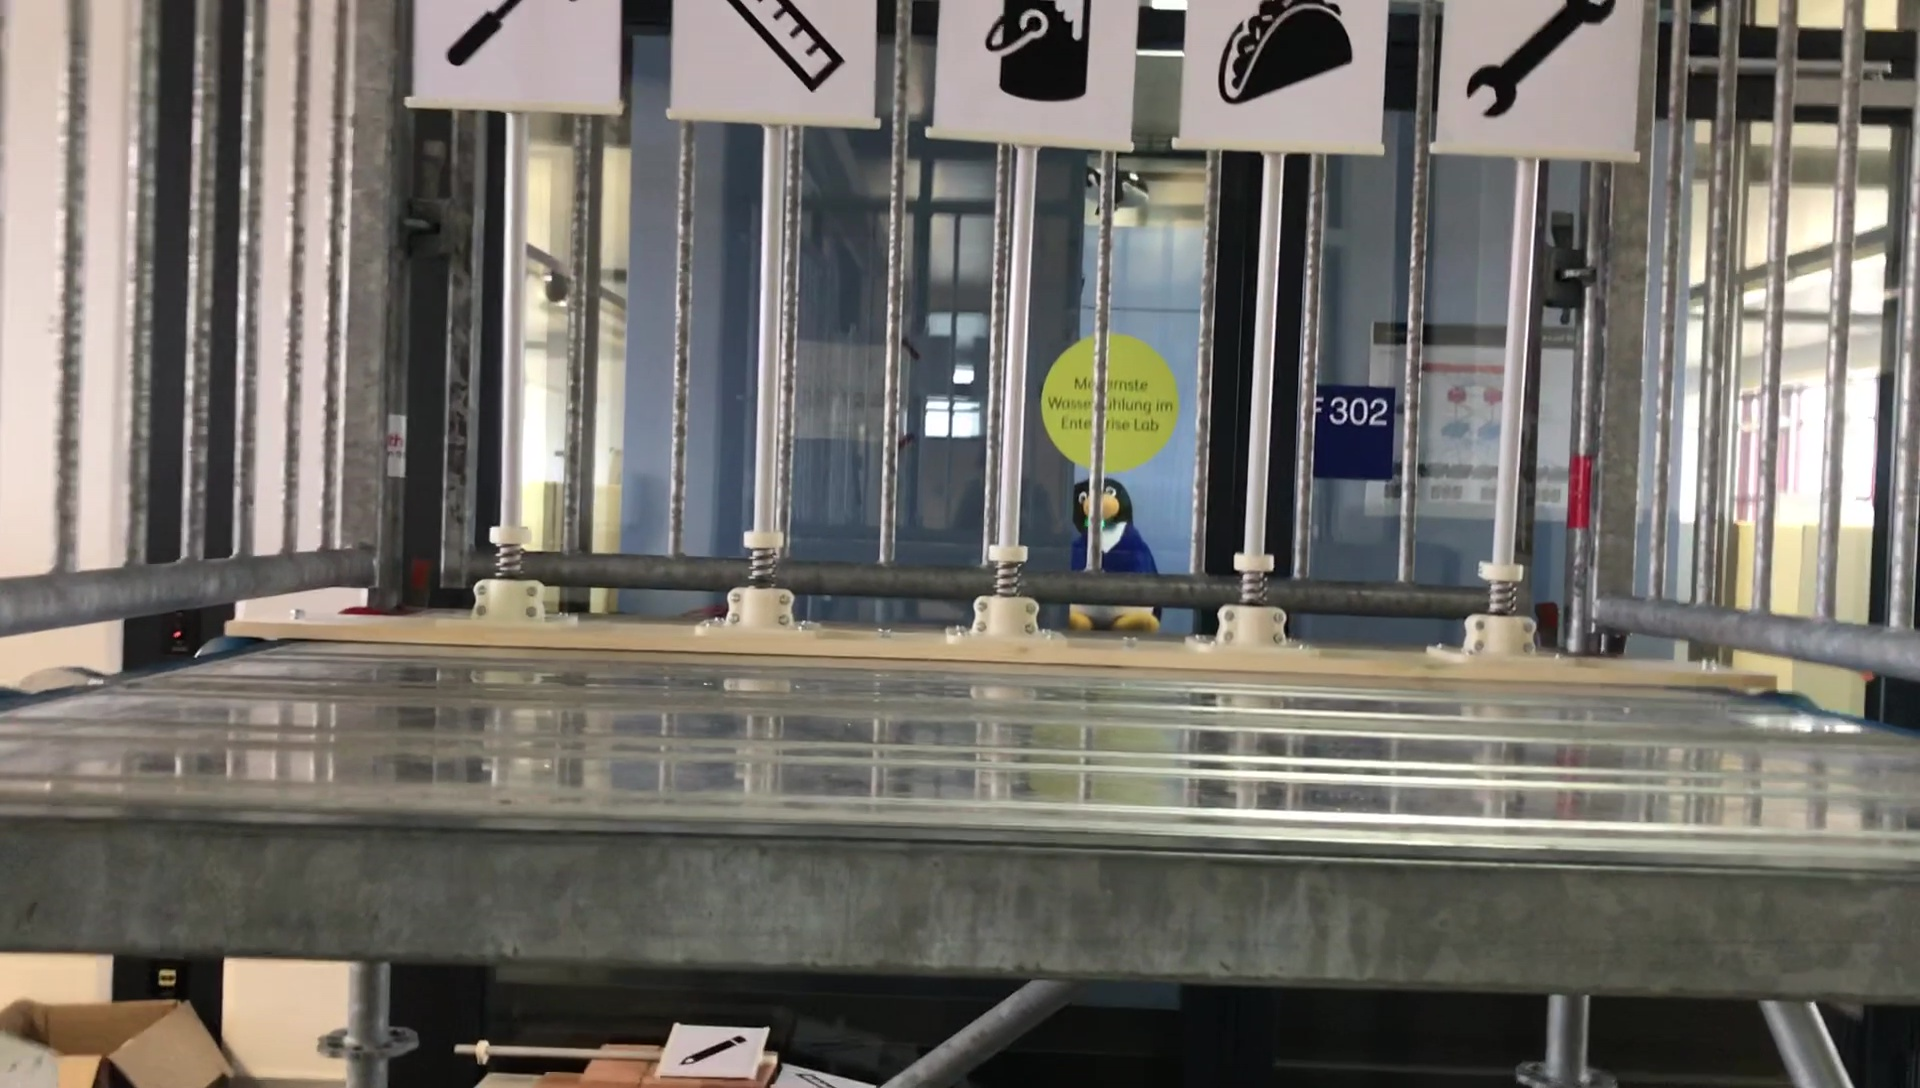bucket: (976, 0, 1100, 109)
hammer: (439, 0, 550, 67)
ruler: (717, 0, 855, 95)
taco: (1207, 0, 1357, 111)
wrench: (1457, 0, 1627, 125)
